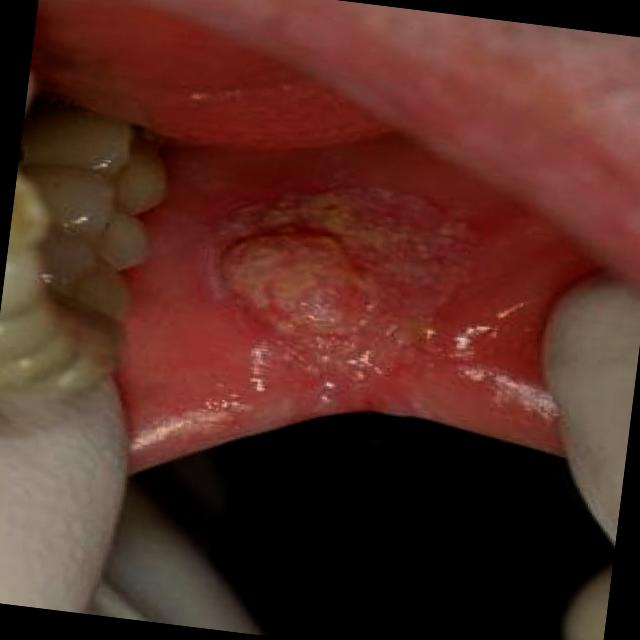Cancer: (186, 161, 485, 382)
